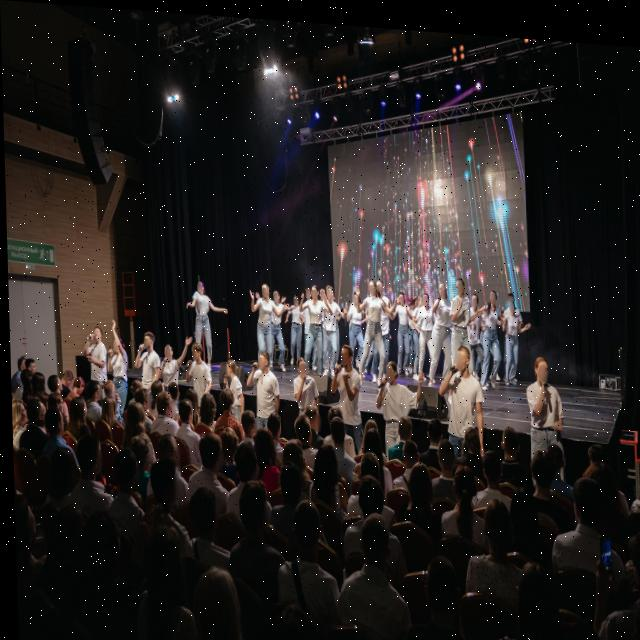Person: (337, 500, 403, 640), (125, 515, 191, 640), (72, 508, 133, 640), (273, 491, 336, 616), (552, 459, 609, 585), (430, 331, 487, 450), (232, 469, 282, 602), (404, 541, 460, 640), (177, 558, 244, 640), (469, 493, 523, 594), (519, 345, 566, 455), (186, 481, 234, 576), (144, 453, 187, 558), (372, 354, 421, 438), (11, 480, 42, 607), (332, 336, 365, 444), (613, 517, 640, 640), (351, 466, 393, 545), (227, 438, 266, 523), (187, 427, 226, 508), (40, 439, 77, 524), (186, 272, 222, 359), (521, 435, 556, 518), (112, 445, 141, 538), (446, 268, 472, 369), (107, 319, 132, 418), (316, 278, 341, 375), (75, 430, 105, 510), (441, 466, 476, 534), (249, 276, 275, 367), (406, 453, 435, 534), (121, 400, 153, 472), (466, 282, 487, 391), (363, 274, 385, 376), (247, 347, 276, 424), (429, 274, 451, 375), (473, 436, 505, 503), (300, 280, 323, 373), (374, 273, 394, 372), (277, 432, 306, 500), (132, 318, 158, 393), (324, 408, 352, 477), (481, 282, 500, 383), (499, 292, 520, 383), (313, 436, 340, 506), (543, 427, 573, 489), (291, 352, 320, 415), (265, 284, 286, 370), (494, 413, 523, 473), (188, 337, 213, 403), (276, 457, 303, 518), (417, 285, 434, 380), (154, 431, 185, 483), (156, 329, 184, 385), (41, 409, 67, 469), (346, 285, 364, 370), (83, 319, 107, 382), (220, 355, 244, 417), (287, 410, 314, 465), (393, 284, 408, 371), (25, 394, 47, 453), (393, 432, 420, 479), (410, 288, 424, 378), (254, 415, 276, 472), (356, 440, 382, 488), (191, 385, 218, 429), (152, 378, 174, 432), (359, 408, 382, 457), (287, 288, 302, 360), (389, 410, 416, 450), (433, 431, 453, 485), (301, 282, 313, 369), (103, 376, 123, 427), (175, 397, 196, 445), (423, 409, 442, 460), (10, 401, 30, 445), (69, 395, 89, 434), (318, 282, 326, 370), (505, 284, 523, 322), (302, 400, 320, 436), (81, 377, 102, 407), (588, 425, 609, 454), (144, 372, 163, 398), (50, 390, 65, 422), (59, 365, 76, 392), (30, 372, 46, 397), (70, 374, 88, 396), (47, 370, 60, 398), (24, 360, 42, 378), (132, 386, 148, 405), (168, 377, 181, 400), (14, 353, 25, 378), (125, 374, 142, 390), (634, 445, 640, 486)
